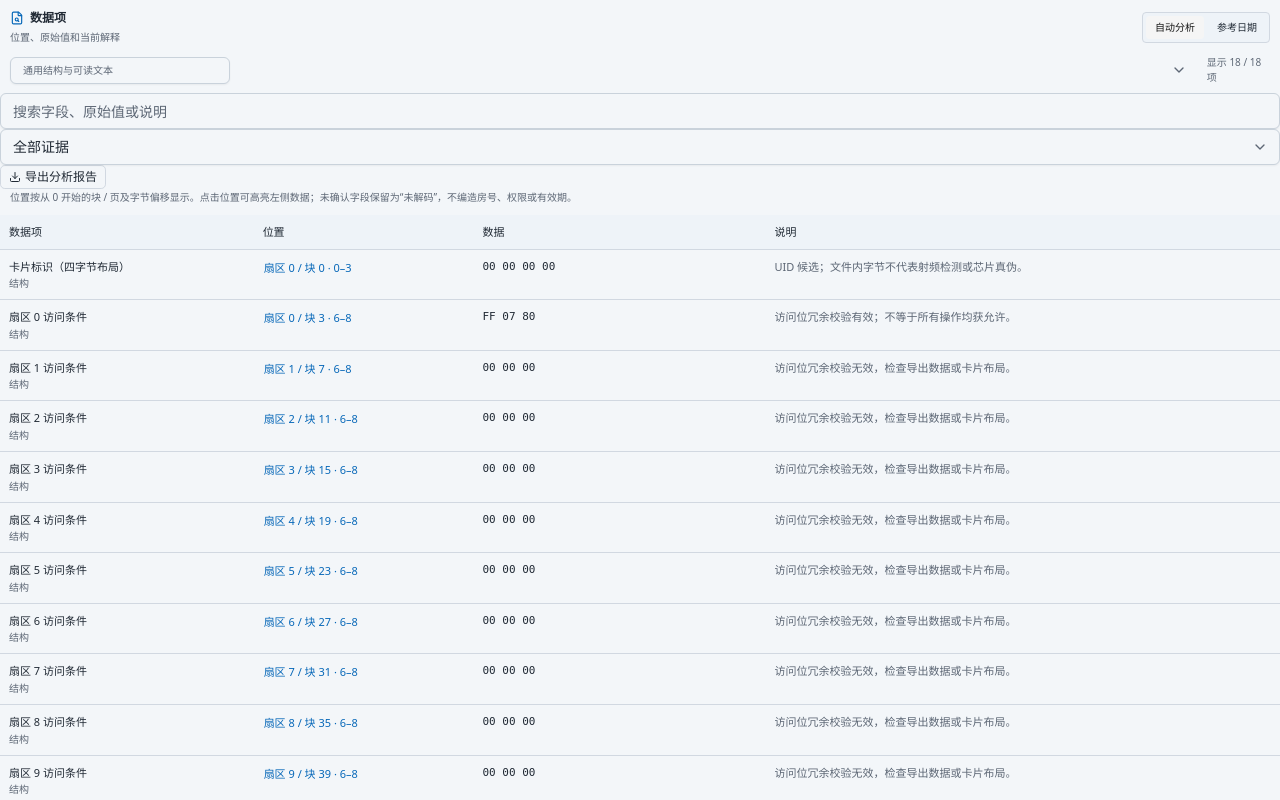
it: shows the four screenshot-style columns and keeps reference dates opt-in
Check: the column heading "数据项" is shown, box [0,215,254,249]
Check: the column heading "位置" is shown, box [254,215,474,249]
Click the button "参考日期".
click(1237, 28)  # box [1207,15,1267,40]
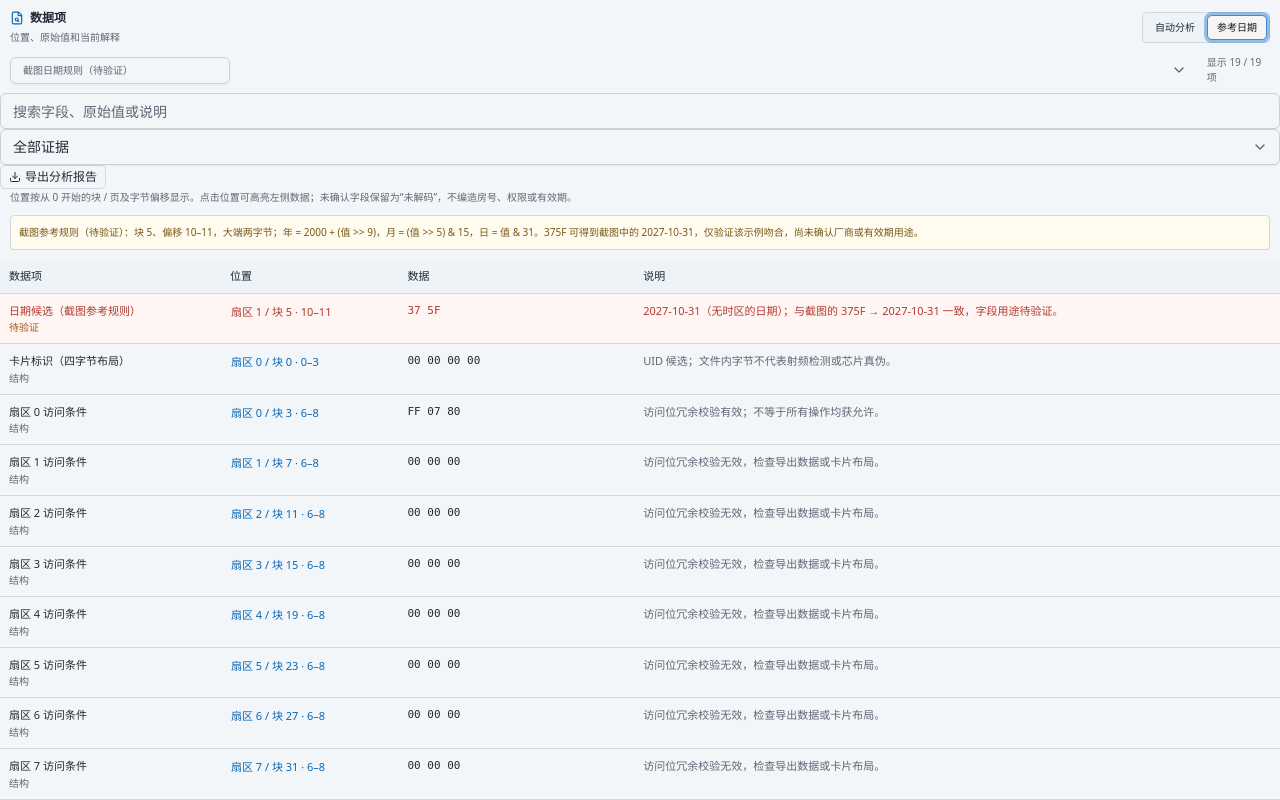
Check: the text "待验证" is shown, box [9,320,39,334]
Check: the text "37 5F" is shown, box [398,294,634,344]
Check: the text "2027-10-31（无时区的日期）；与截图的 375F → 2027-10-31 一致，字段用途待验证。" is shown, box [634,294,1279,344]
Click the button with aria-label "定位块 5 偏移 10 长度 2".
click(281, 312)  # box [230,302,332,322]
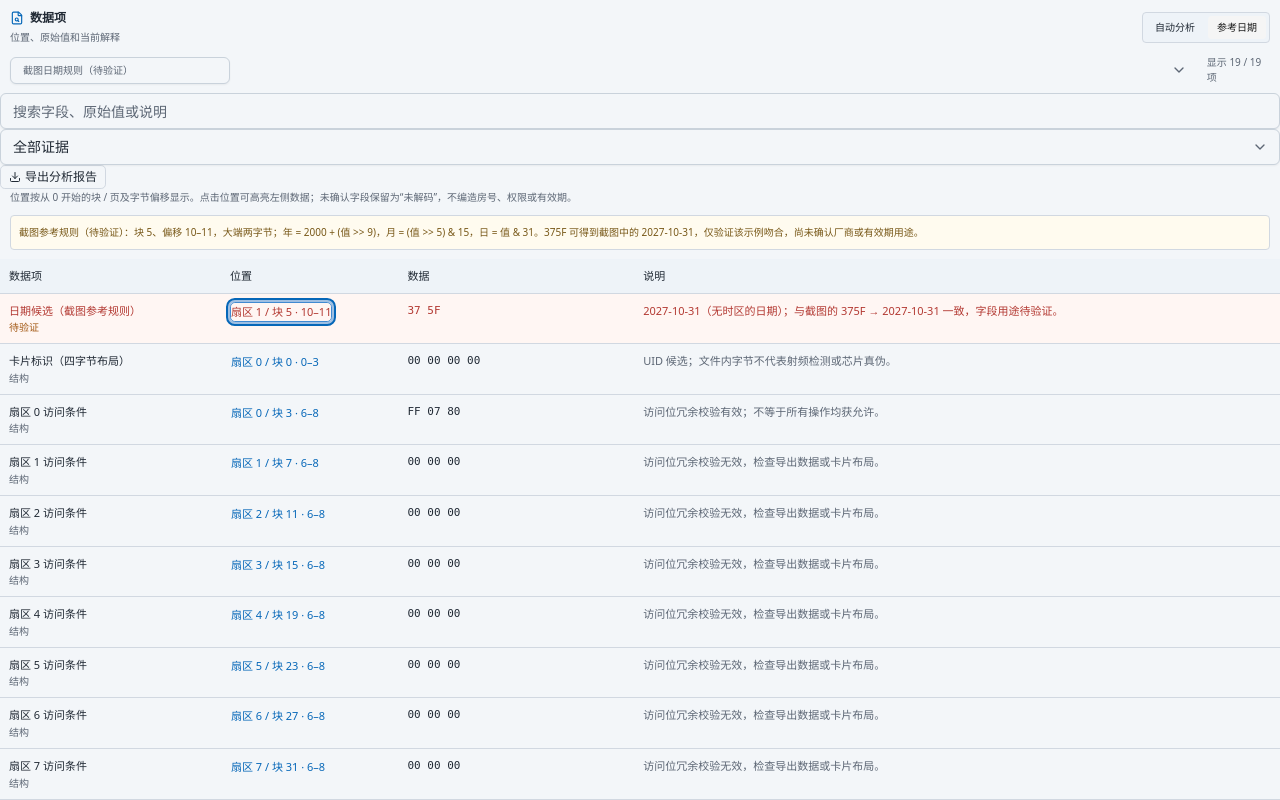
Click the button "自动分析".
click(1175, 28)  # box [1145,15,1205,40]
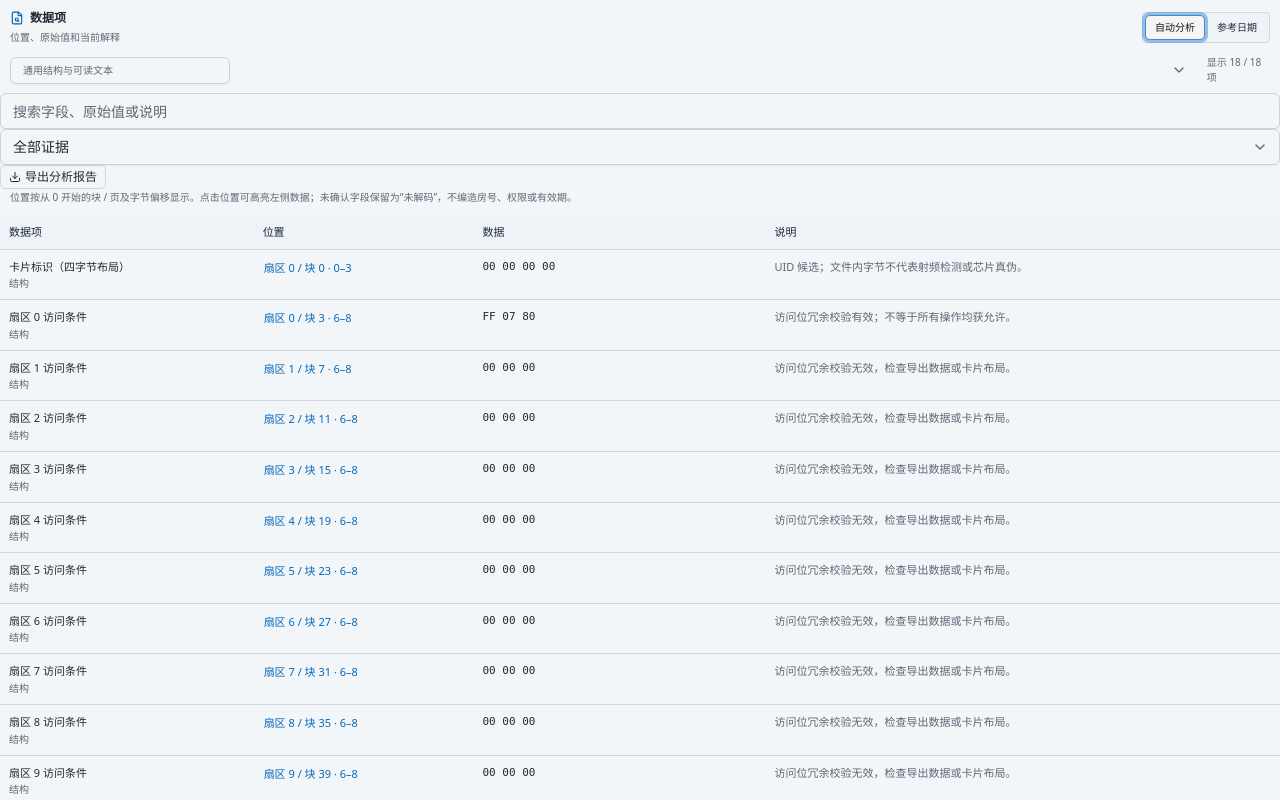
Check: the text "日期候选（截图参考规则）" is gone
